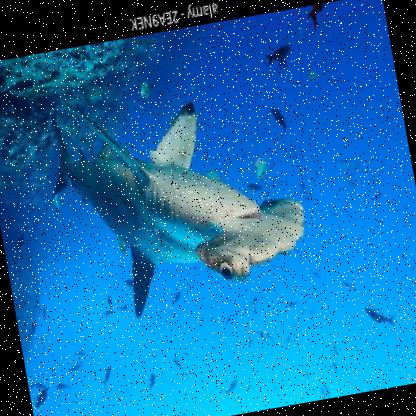hammerhead_Shark: (31, 70, 326, 347)
